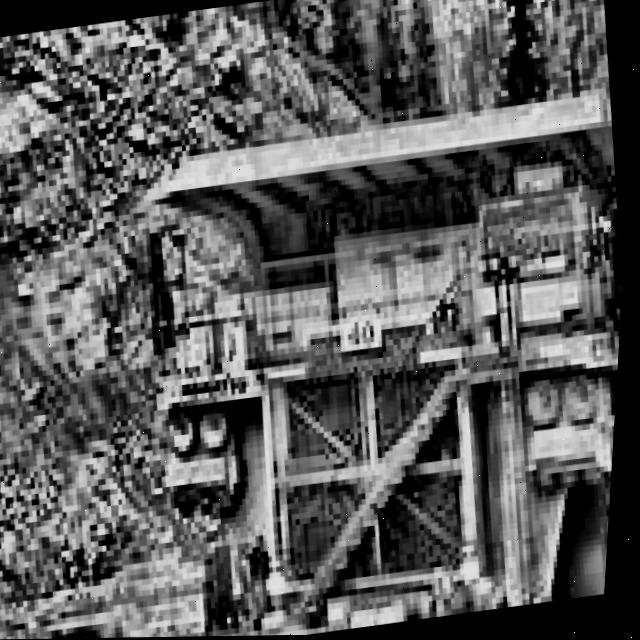dump_truck: (119, 60, 637, 638)
